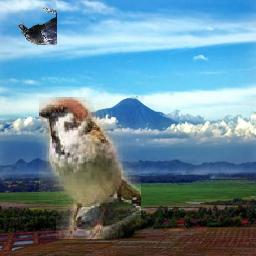Crow: (19, 7, 58, 45)
Sparrow: (39, 97, 141, 239)
